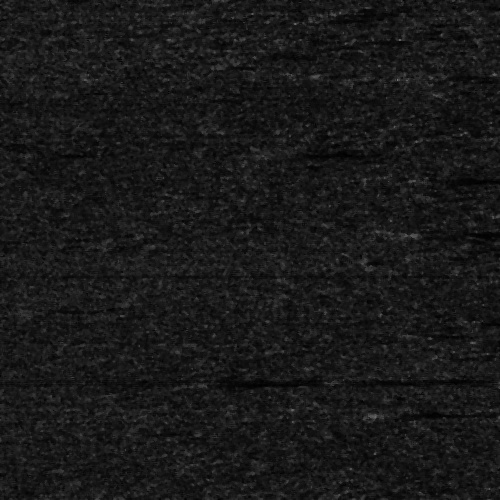object: (354, 228, 469, 237), (369, 409, 410, 416), (190, 380, 231, 385), (396, 178, 427, 181)
shadow: (412, 228, 500, 237), (390, 409, 500, 416), (211, 380, 317, 385), (412, 178, 500, 181), (282, 152, 366, 153)
